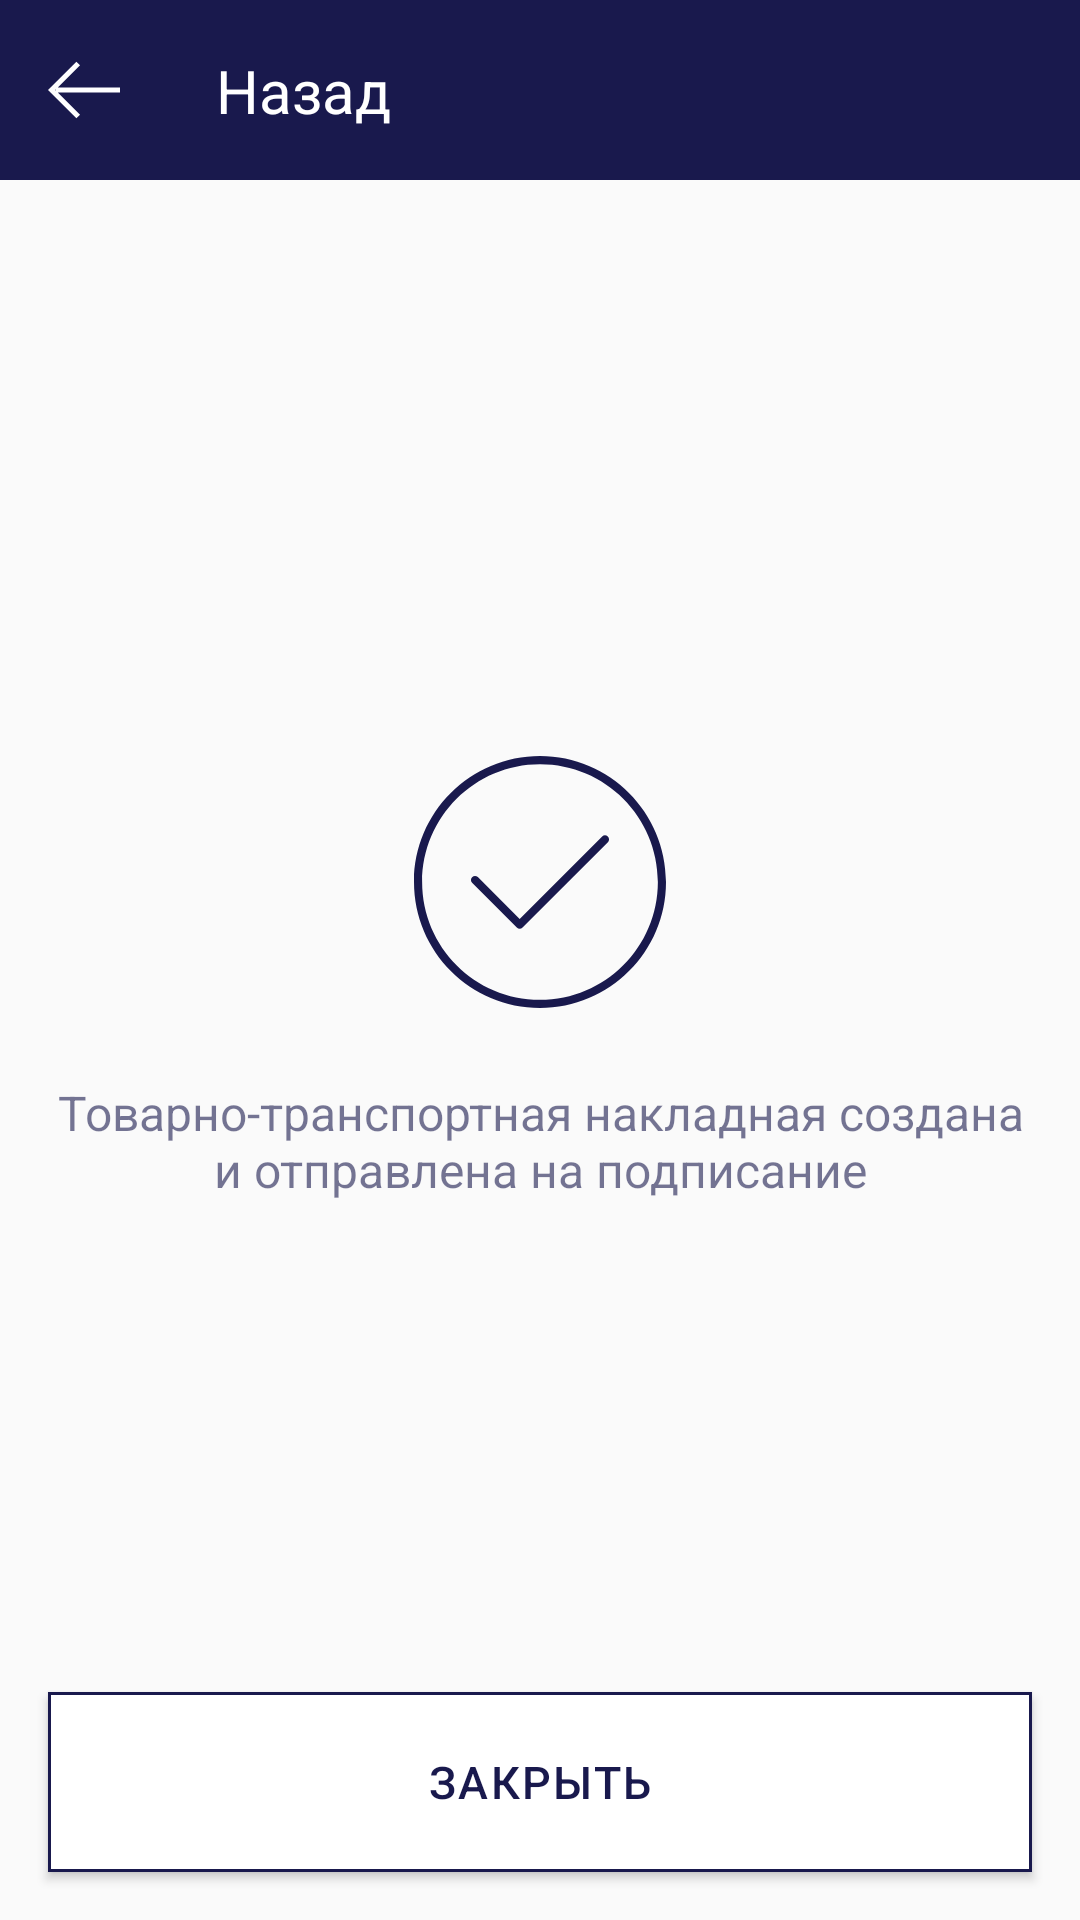

Icons on this 1080w x 1920h Android screen, each with its box as (x1, y1, x2, y2):
back: (48, 62, 120, 118)
success: (414, 756, 666, 1008)
